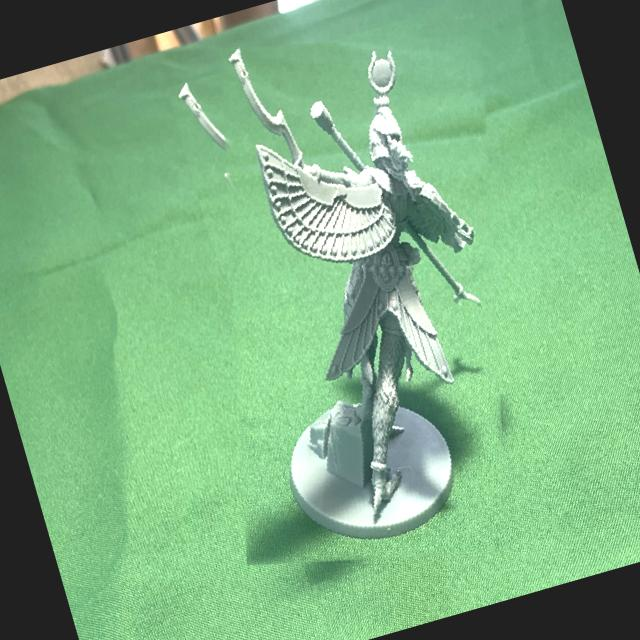isis: (137, 0, 590, 603)
